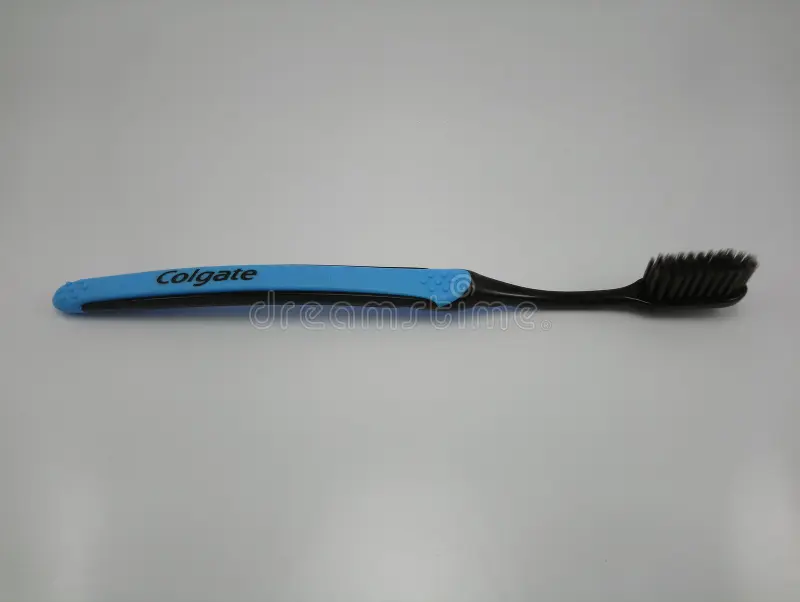non-toxic_waste: (52, 255, 757, 314)
